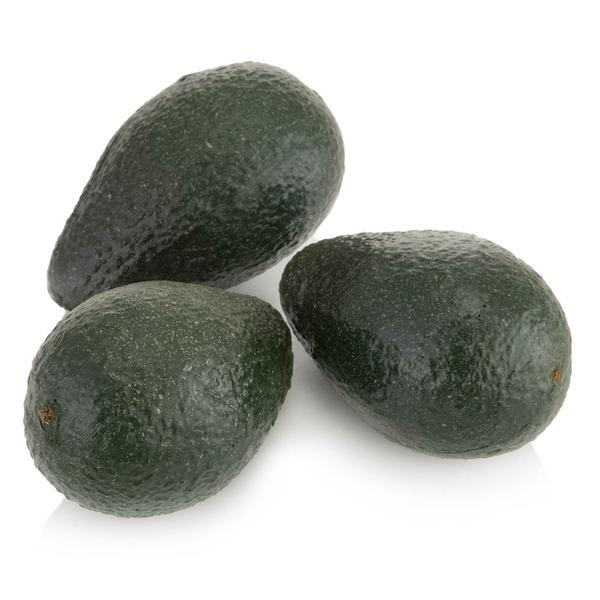almost: (48, 61, 344, 311), (279, 230, 571, 459), (23, 280, 294, 518)
